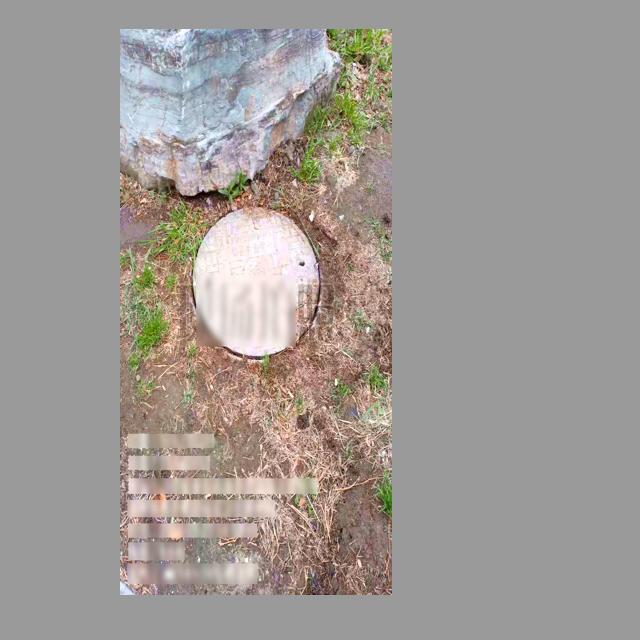good: (194, 207, 319, 367)
